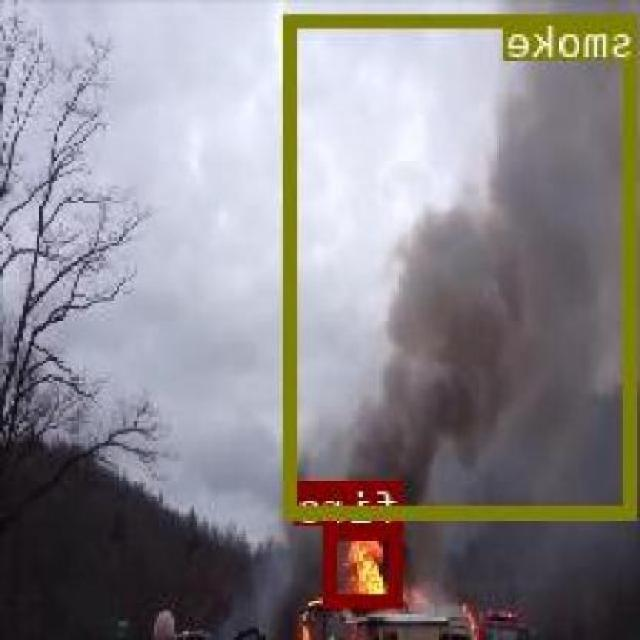Fire: (328, 524, 406, 606)
Smoke: (286, 12, 640, 516)
